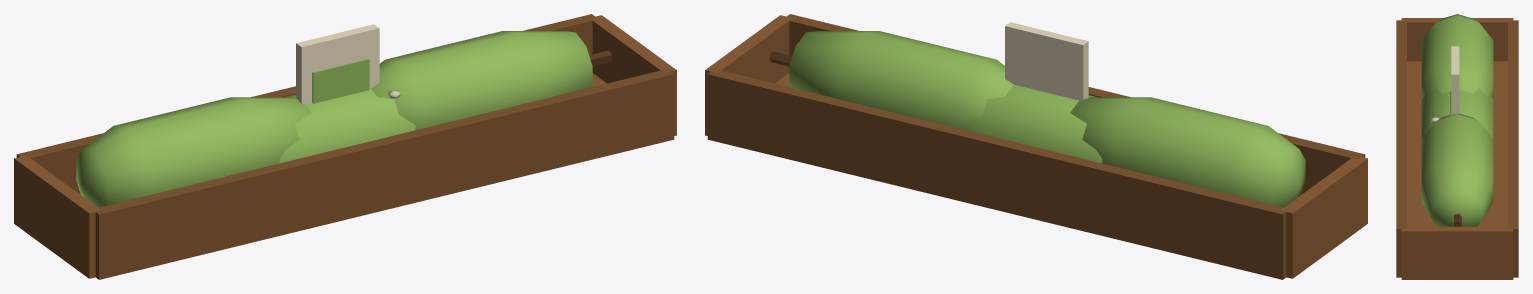
Rendered from Veg_Zucchini.fbx.
3 views of the same model, side by side, from view 1: azimuth 30°, elevation 25°; view 2: azimuth 150°, elevation 25°; view 3: azimuth 270°, elevation 25° (orthographic). The views are drawn at different scales.
Parts seen in each view (by area): view 1: Veg_Zucchini__Stack, Veg_Zucchini__Seed, Veg_Zucchini; view 2: Veg_Zucchini__Stack, Veg_Zucchini, Veg_Zucchini__Seed; view 3: Veg_Zucchini__Stack, Veg_Zucchini, Veg_Zucchini__Seed.
Part boxes in pixels (box(x1,y1,x2,y2)): Veg_Zucchini__Stack: box(14, 14, 676, 279); Veg_Zucchini__Seed: box(296, 24, 379, 104); Veg_Zucchini: box(279, 88, 415, 163); Veg_Zucchini__Stack: box(705, 14, 1367, 279); Veg_Zucchini: box(966, 84, 1102, 163); Veg_Zucchini__Seed: box(1005, 22, 1088, 100); Veg_Zucchini__Stack: box(1396, 14, 1518, 279); Veg_Zucchini: box(1421, 88, 1493, 138); Veg_Zucchini__Seed: box(1450, 46, 1459, 115).
Size of the model in its own units: 0.376 by 0.09 by 0.0913.
